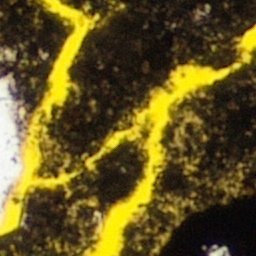cement_matrix: (0, 0, 255, 255), (0, 0, 69, 139), (84, 156, 96, 168)
cracks: (80, 64, 231, 255), (0, 0, 97, 237), (237, 24, 255, 64)
gravel_crushed_stones: (0, 81, 23, 224), (85, 157, 95, 167), (211, 249, 226, 255), (0, 51, 11, 58)
